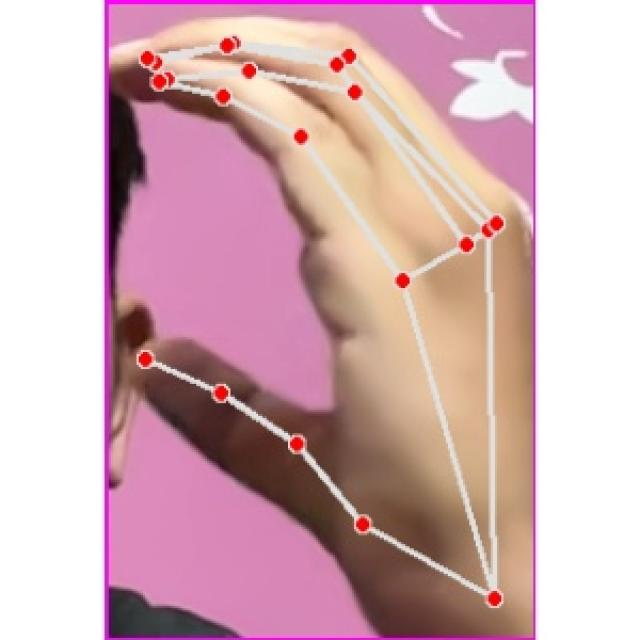C: (126, 25, 534, 636)
